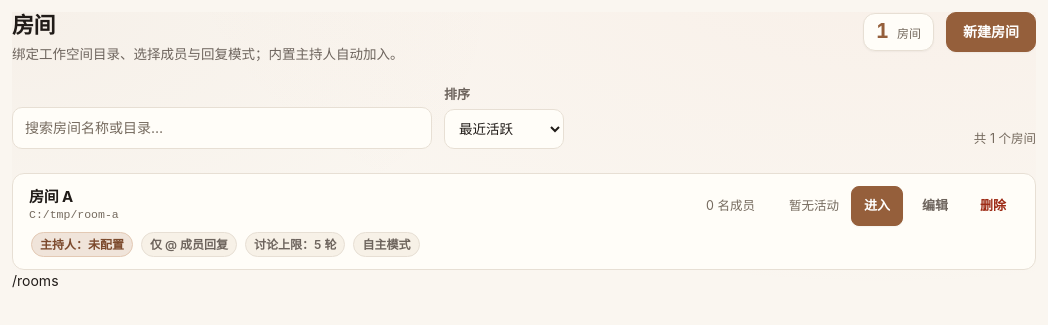
Scenario: RoomsPage 右键菜单 › 删除进行中时菜单删除项禁用
Later steps or results of the test are not shown.
Right-click the list item "房间 A" at (524, 221), box [12,173,1036,270]
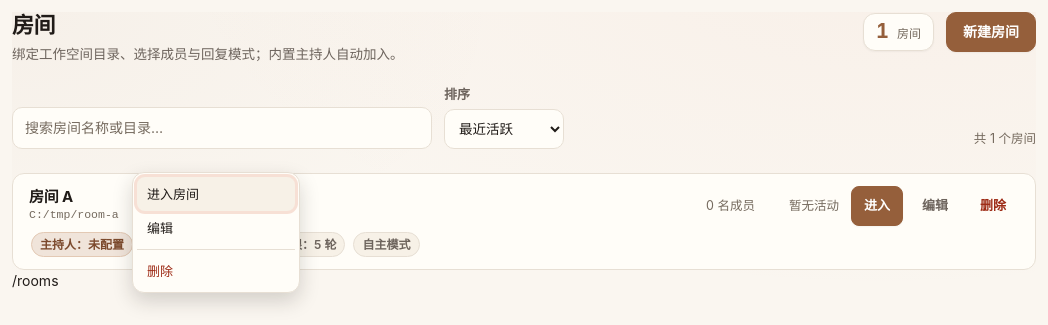
Click the menu item "删除" at (216, 271), box [137,254,295,288]
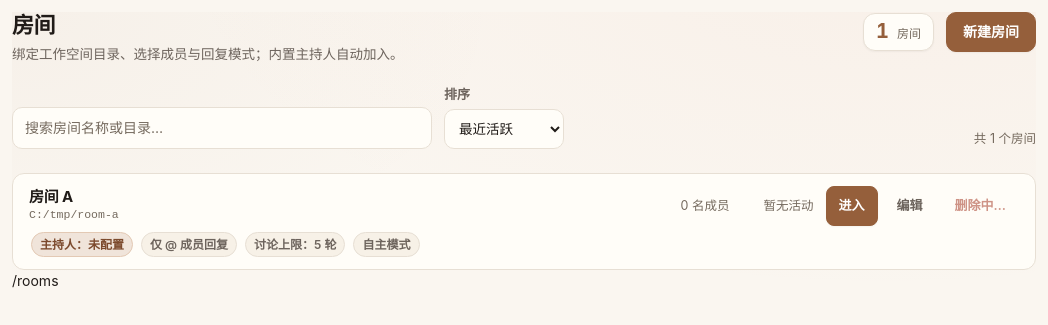
Check: the menu is gone
